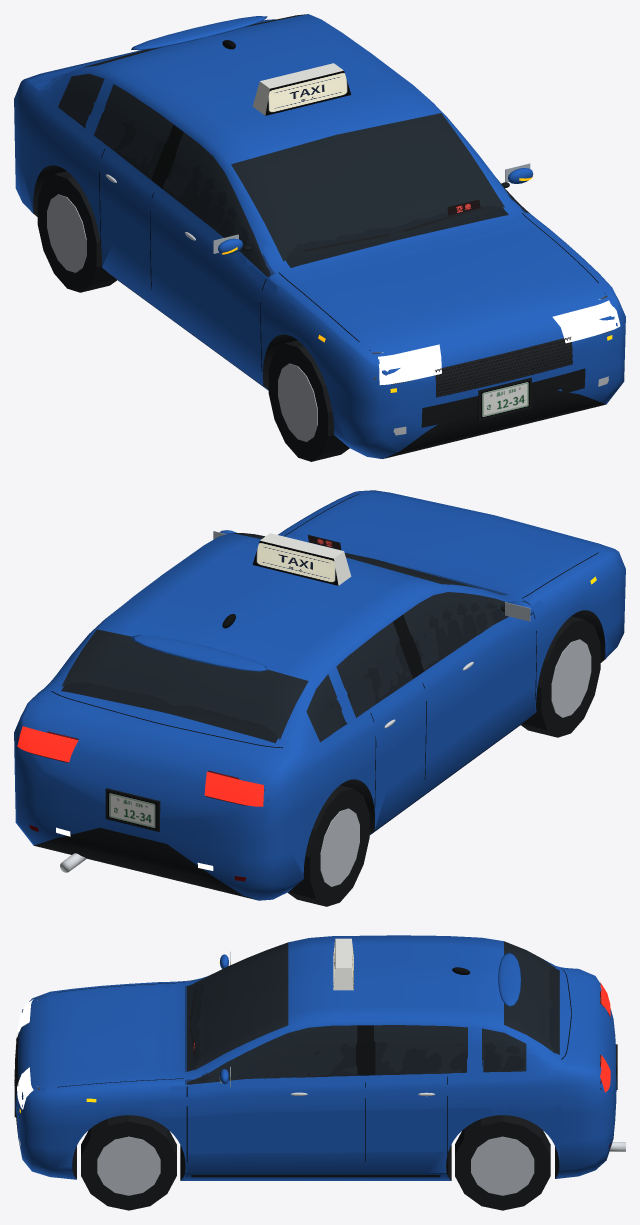
The model's file is car.glb.
The picture shows the model from 3 angles, top to bottom: view 1: azimuth 30°, elevation 25°; view 2: azimuth 150°, elevation 25°; view 3: azimuth 270°, elevation 25°; orthographic projection. The views are drawn at different scales.
Visible parts, largest first — view 1: BodyLow, Body, TaxiSign, PlateFront; view 2: BodyLow, Body, TaxiSign, PlateRear; view 3: BodyLow, Body, TaxiSign.
Part boxes in pixels (x1,y1,x2,y2): BodyLow: (14,14,625,461); Body: (28,16,620,435); TaxiSign: (252,63,351,115); PlateFront: (481,381,529,418); BodyLow: (14,490,625,906); Body: (17,491,604,892); TaxiSign: (252,533,351,585); PlateRear: (108,792,156,829); BodyLow: (15,935,616,1210); Body: (14,943,625,1177); TaxiSign: (333,938,353,990).
Bounding box in the file's own units: 2.14 × 1.62 × 4.42.
30 materials, 9 textured.
